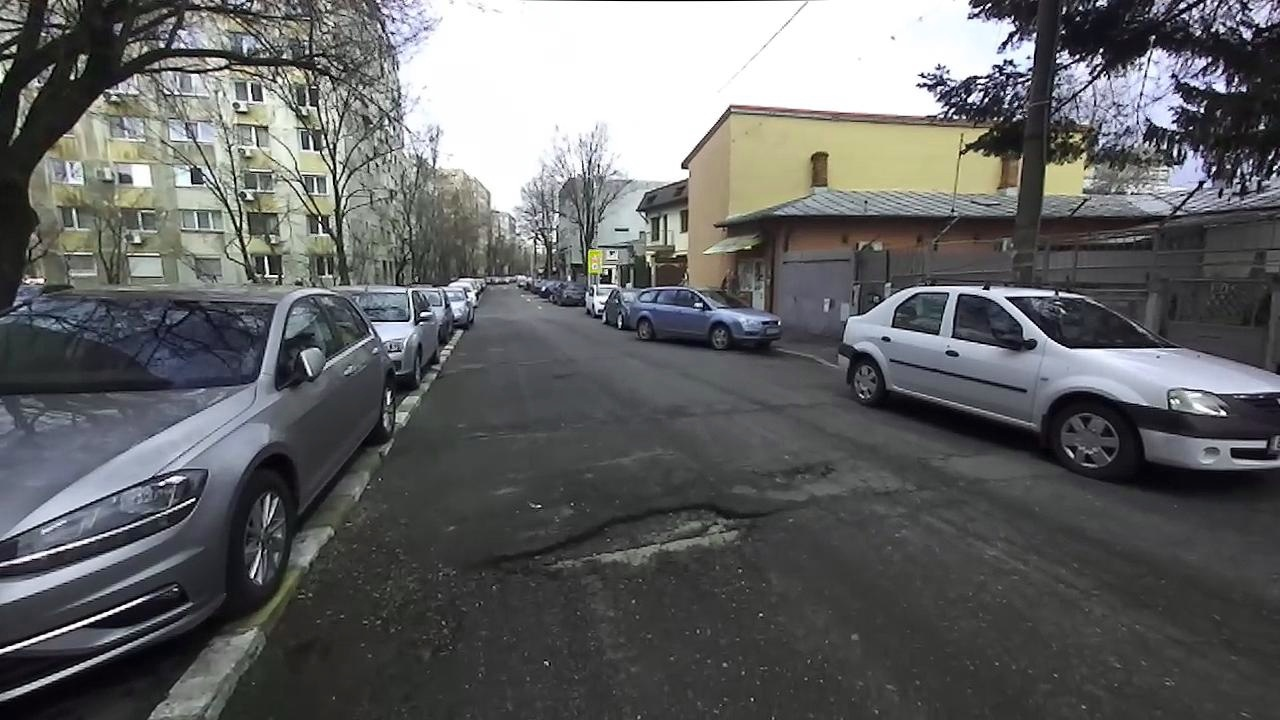pothole: (478, 498, 786, 588), (761, 453, 841, 484)
